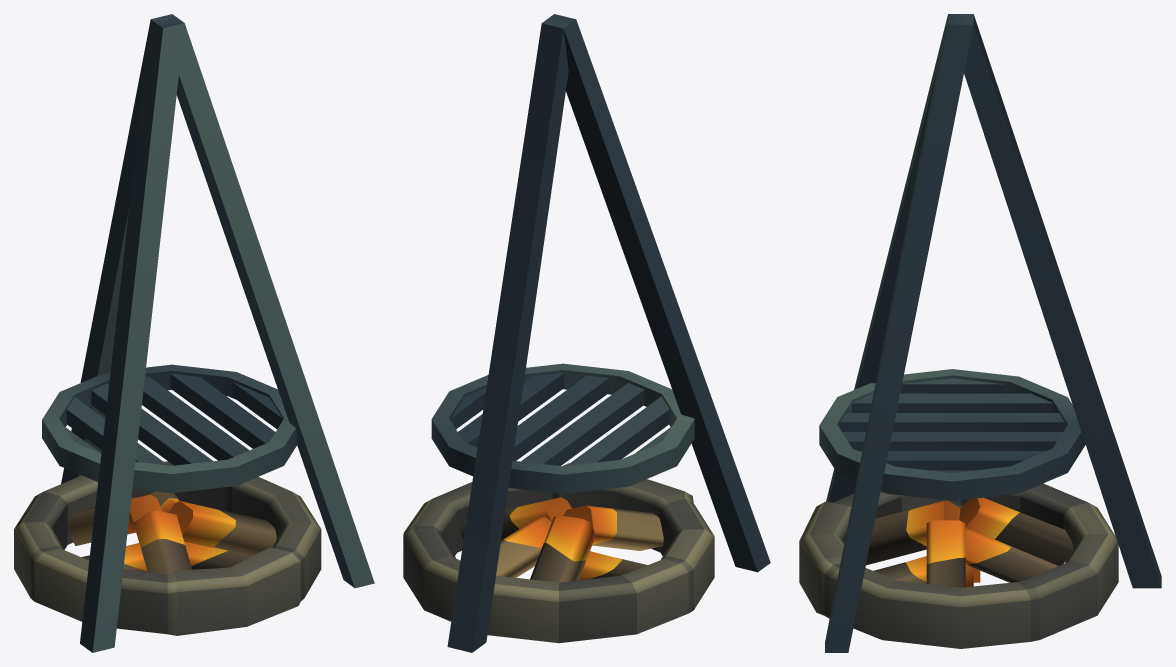
The model's file is fire_pit_grill.fbx.
The picture shows the model from 3 angles, left to right: view 1: azimuth 30°, elevation 25°; view 2: azimuth 150°, elevation 25°; view 3: azimuth 270°, elevation 25°; orthographic projection. The views are drawn at different scales.
Parts seen in each view (by area): view 1: fire_pit_grill; view 2: fire_pit_grill; view 3: fire_pit_grill.
Boxes of the visible parts, left/top/right/bottom form: fire_pit_grill: left=14, top=14, right=374, bottom=652; fire_pit_grill: left=403, top=14, right=770, bottom=652; fire_pit_grill: left=799, top=14, right=1161, bottom=652.
Bounding box in the file's own units: 108 × 200 × 117.
